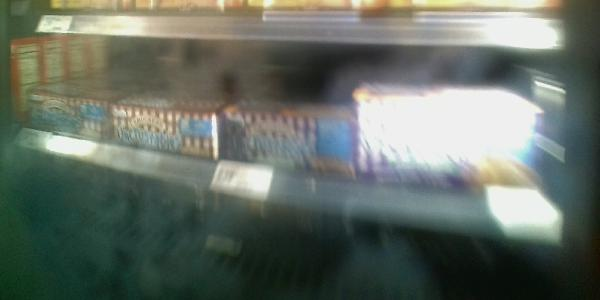icecream: (359, 80, 533, 183), (218, 99, 359, 178), (109, 99, 222, 162), (24, 87, 109, 141)
